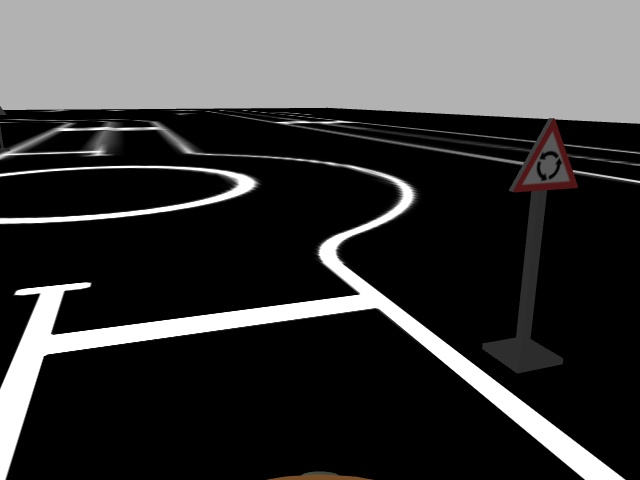roundabout: (509, 117, 580, 195)
